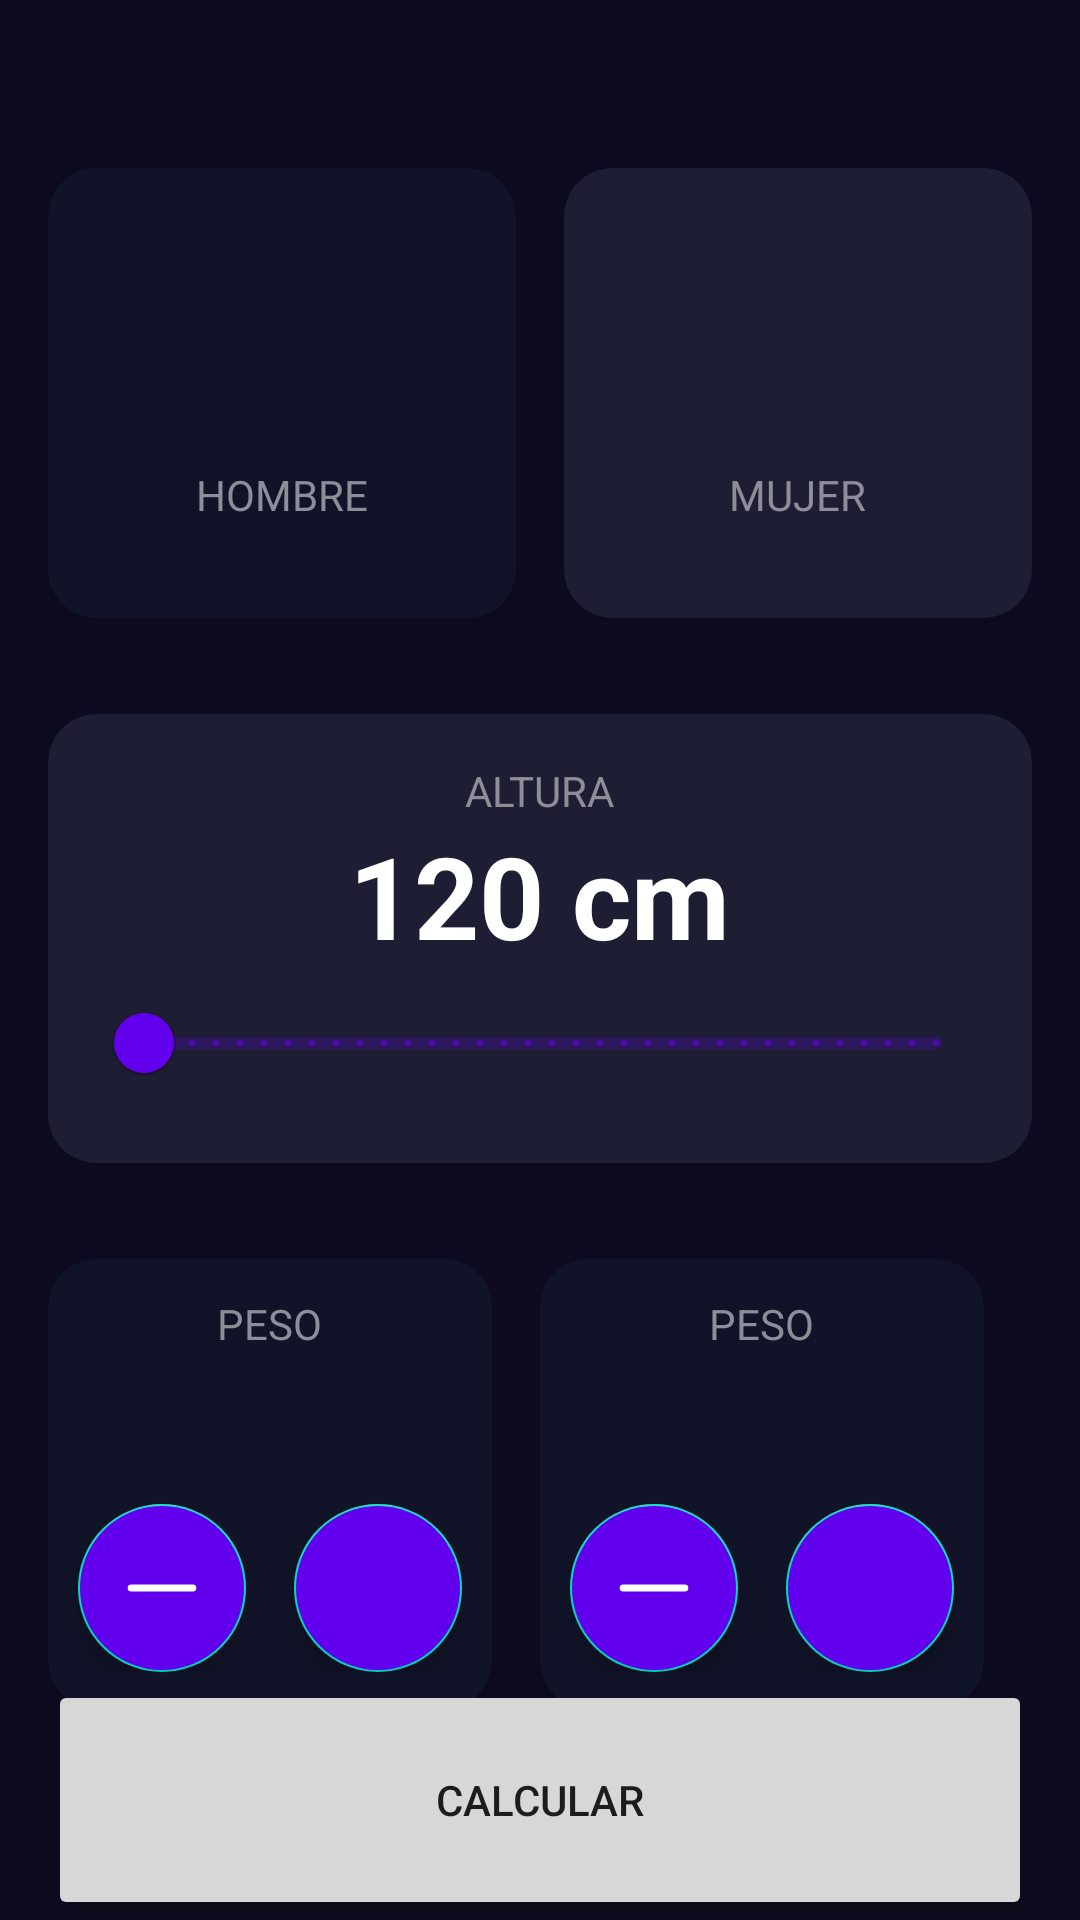

Icon bounding boxes for this 1080px x 1920px phone screenshot, format (x1, y1, x2, y2):
sinal menos: (78, 1504, 246, 1672), (570, 1504, 738, 1672)
